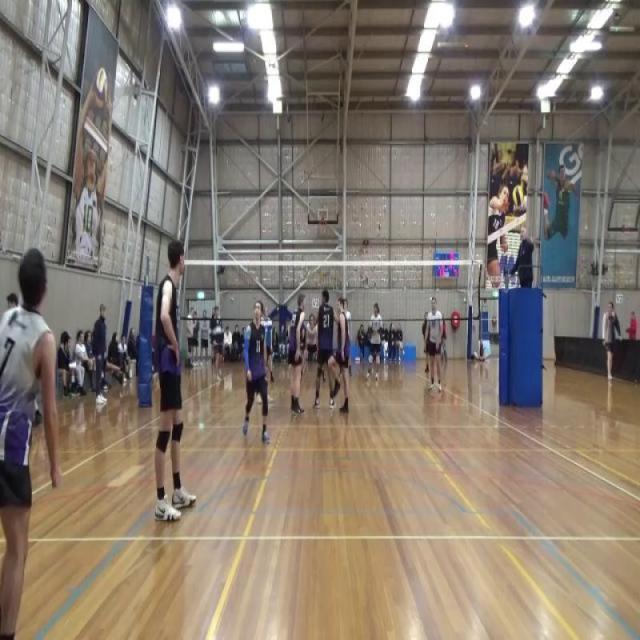volleyball: (95, 66, 108, 109), (512, 185, 525, 208)
